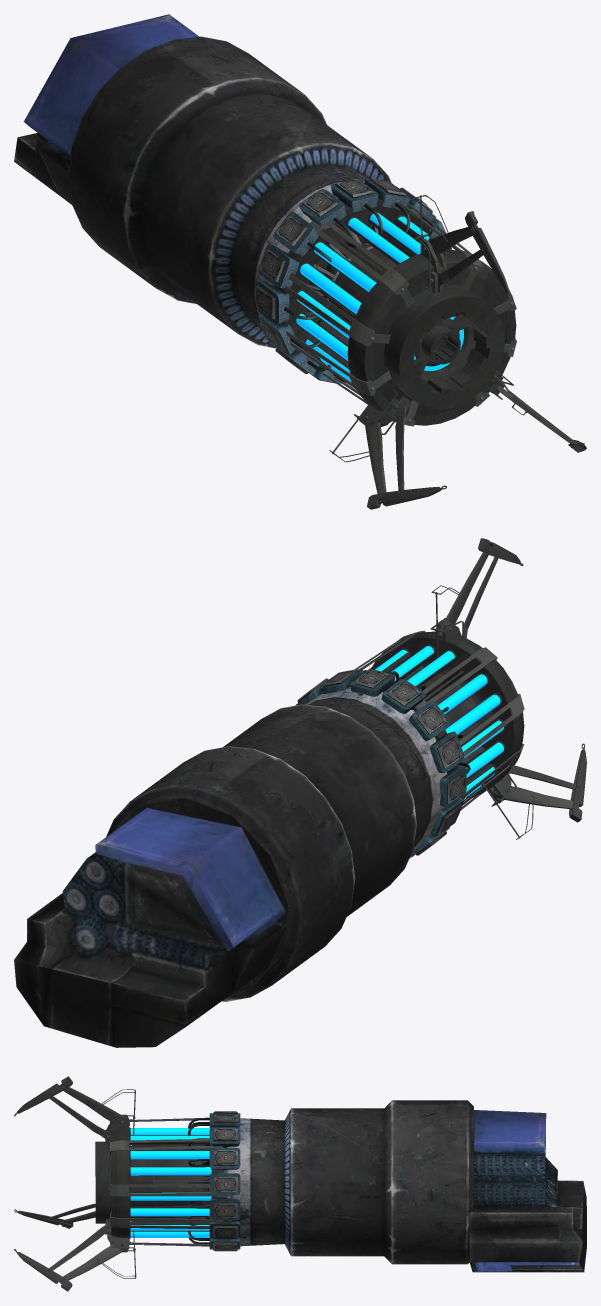
The model's file is Swarm killer SMG.glb.
3 views of the same model, one above another, from view 1: azimuth 30°, elevation 25°; view 2: azimuth 150°, elevation 25°; view 3: azimuth 270°, elevation 25° (orthographic). The views are drawn at different scales.
Parts seen in each view (by area): view 1: Object_8, Object_16, Object_20, Object_13, Object_15, Object_14; view 2: Object_8, Object_16, Object_20, Object_13, Object_14, Object_15; view 3: Object_8, Object_16, Object_20, Object_13, Object_14, Object_15.
Boxes of the visible parts, x1,y1,x2,y2 form: Object_8: (14,14,391,348); Object_16: (277,198,516,425); Object_20: (256,178,451,383); Object_13: (329,195,586,509); Object_15: (281,202,516,426); Object_14: (296,212,463,382); Object_8: (14,687,447,1047); Object_16: (371,631,524,798); Object_20: (295,669,470,858); Object_13: (430,538,586,839); Object_14: (375,646,503,797); Object_15: (354,630,524,810); Object_8: (223,1100,586,1272); Object_16: (95,1126,223,1240); Object_20: (187,1111,240,1251); Object_13: (14,1076,136,1291); Object_14: (130,1128,211,1237); Object_15: (108,1117,223,1246).
Bounding box in the file's own units: 3.45 × 4.15 × 11.7.
6 materials, 5 textured.
